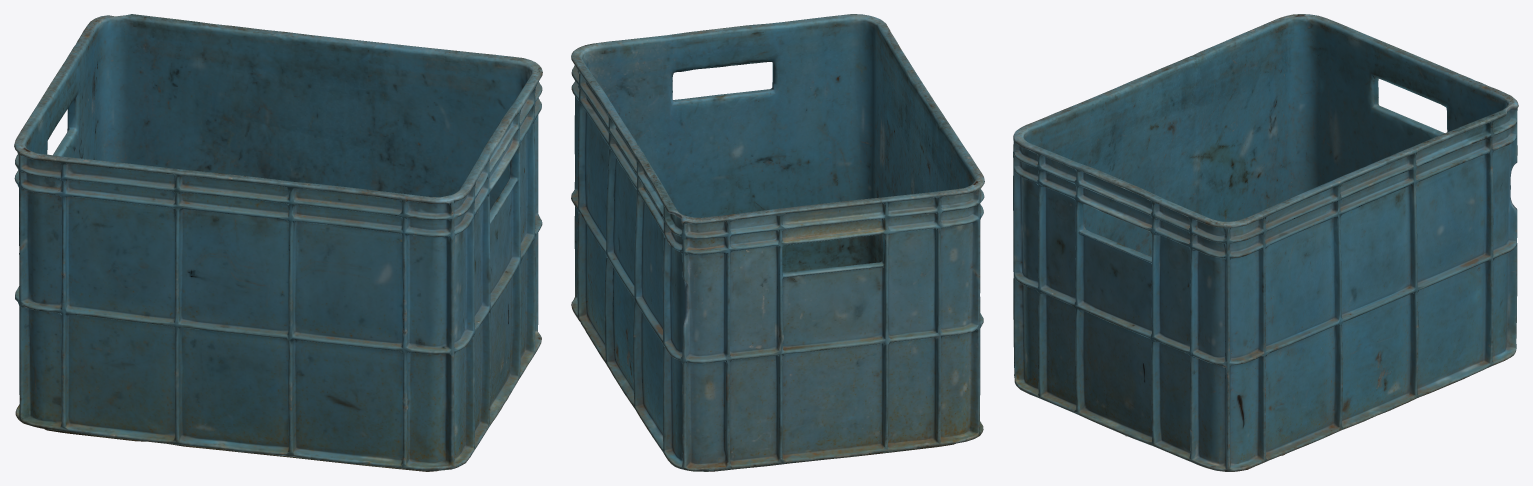
The model's file is Plastic Crate.obj.
3 renders of one model, left to right at view 1: azimuth 30°, elevation 25°; view 2: azimuth 150°, elevation 25°; view 3: azimuth 270°, elevation 25°, orthographic. The views are drawn at different scales.
Parts seen in each view (by area): view 1: Aset_props_storage_S_vifpccsaw_LOD0; view 2: Aset_props_storage_S_vifpccsaw_LOD0; view 3: Aset_props_storage_S_vifpccsaw_LOD0.
Boxes of the visible parts, box(x1,y1,x2,y2) form: Aset_props_storage_S_vifpccsaw_LOD0: box(14, 14, 542, 471); Aset_props_storage_S_vifpccsaw_LOD0: box(571, 14, 984, 471); Aset_props_storage_S_vifpccsaw_LOD0: box(1013, 14, 1518, 471).
Size of the model in its own units: 0.4672 by 0.2643 by 0.4691.
1 material, 1 textured.
